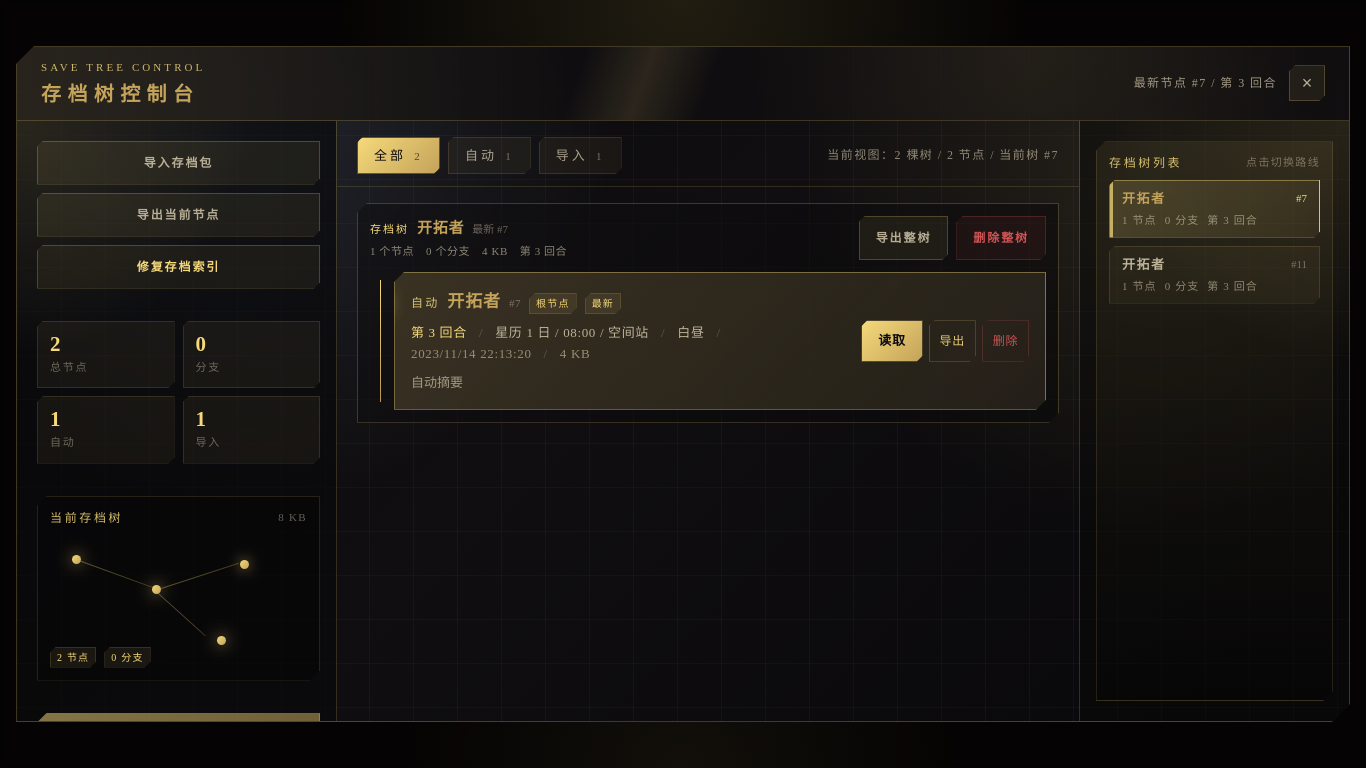
it: 存档管理变体 modal › 导入存档后切到导入过滤维度
Click the button "导入存档包" at (178, 163), box [37,141,320,185]
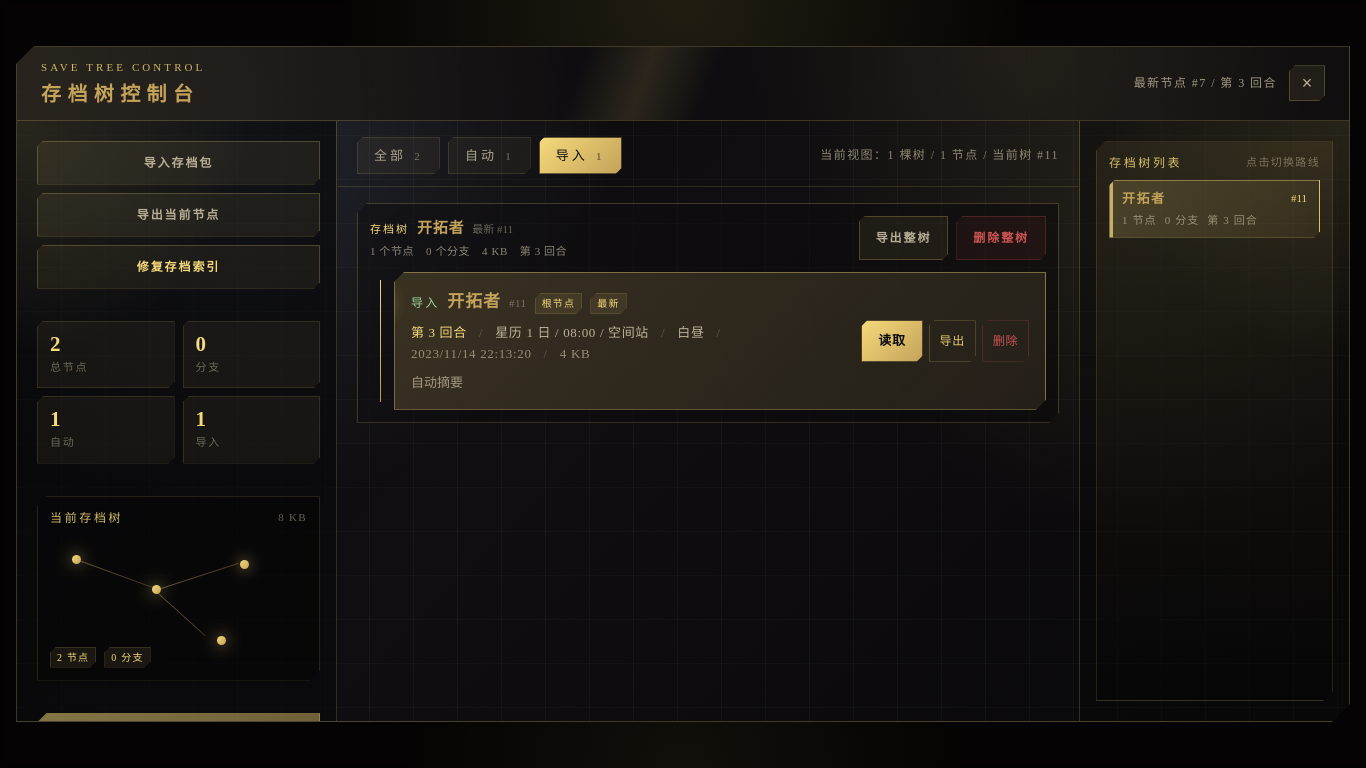
Expected: the text "当前视图：1 棵树 / 1 节点 / 当前树 #11" does not show "#7", [820,146,1059,164]
Result: the text "当前视图：1 棵树 / 1 节点 / 当前树 #11" is shown at [820,146,1059,164]
